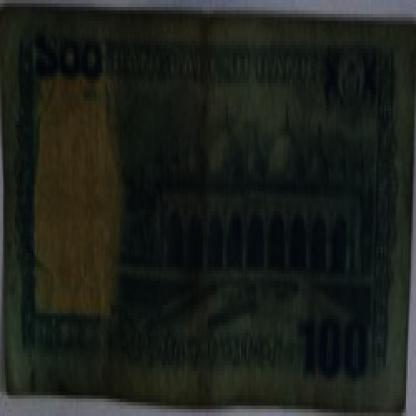one hundred taka: (298, 312, 373, 388), (34, 24, 107, 90)
